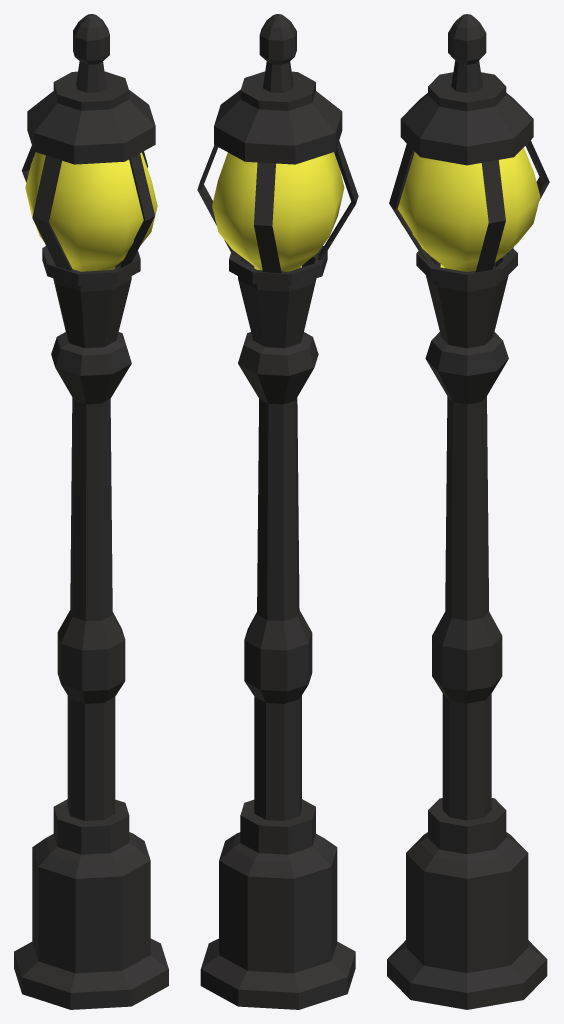
File: street light.glb
3 views of the same model, side by side, from view 1: azimuth 30°, elevation 25°; view 2: azimuth 150°, elevation 25°; view 3: azimuth 270°, elevation 25° (orthographic).
Visible parts, largest first — view 1: Cylinder, Cylinder.001; view 2: Cylinder, Cylinder.001; view 3: Cylinder, Cylinder.001.
Part boxes in pixels (x1,y1,x2,y2): Cylinder: (14,14,168,1009); Cylinder.001: (25,152,157,271); Cylinder: (197,14,358,1009); Cylinder.001: (212,152,344,271); Cylinder: (387,14,549,1009); Cylinder.001: (397,147,540,271).
Bounding box in the file's own units: 2 × 13.25 × 2.03.
